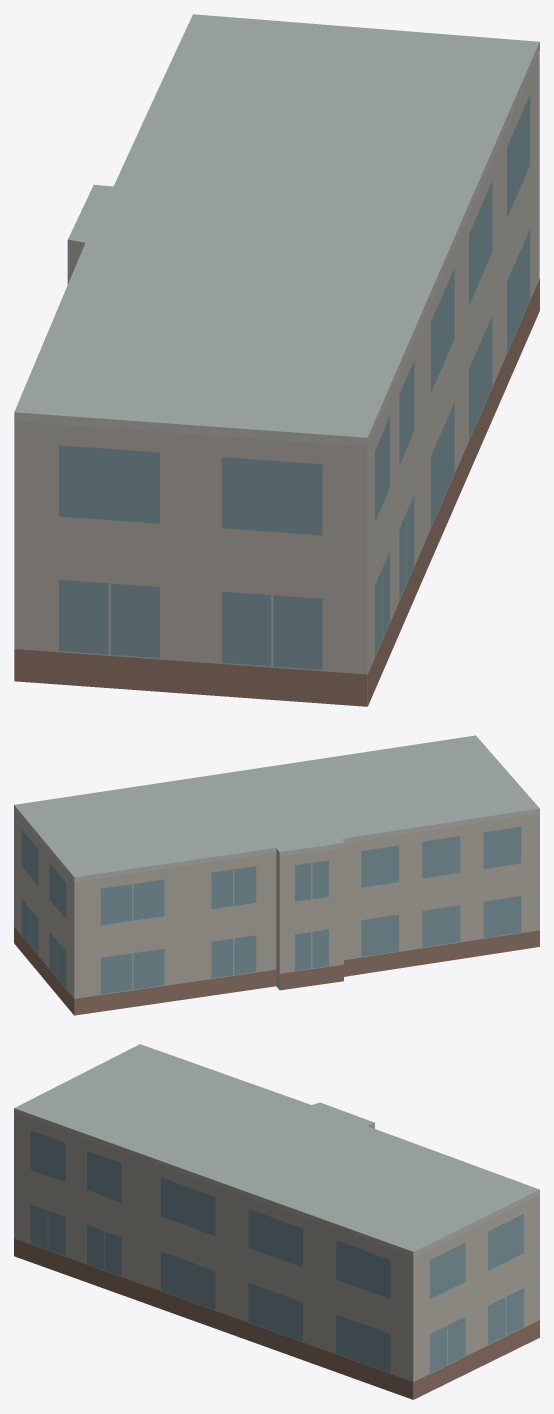
Rendered from survey-upis-32567813.glb.
The picture shows the model from 3 angles, top to bottom: view 1: azimuth 30°, elevation 25°; view 2: azimuth 150°, elevation 25°; view 3: azimuth 270°, elevation 25°; orthographic projection. The views are drawn at different scales.
Parts seen in each view (by area): view 1: survey-upis-32567813.tmp; view 2: survey-upis-32567813.tmp; view 3: survey-upis-32567813.tmp.
Part boxes in pixels (bbox=[...]): survey-upis-32567813.tmp: bbox=[14, 14, 539, 706]; survey-upis-32567813.tmp: bbox=[14, 735, 539, 1015]; survey-upis-32567813.tmp: bbox=[14, 1044, 539, 1399].
Bounding box in the file's own units: 21.99 × 7.3 × 23.51.
